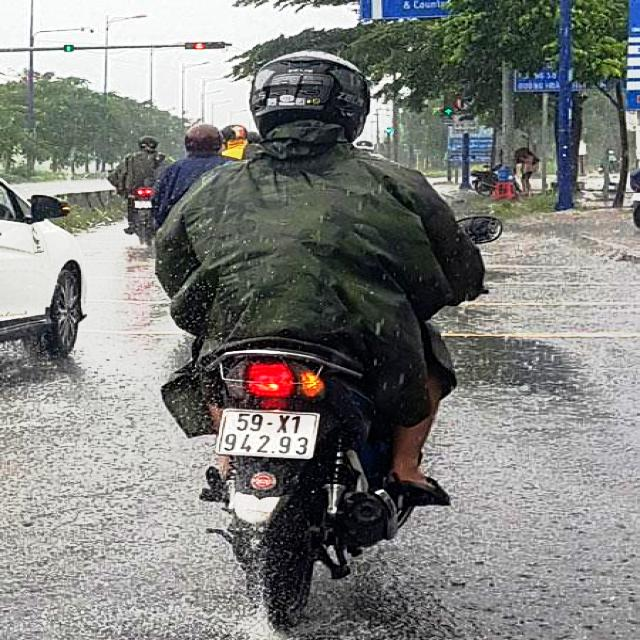license_plate: (213, 412, 316, 458)
